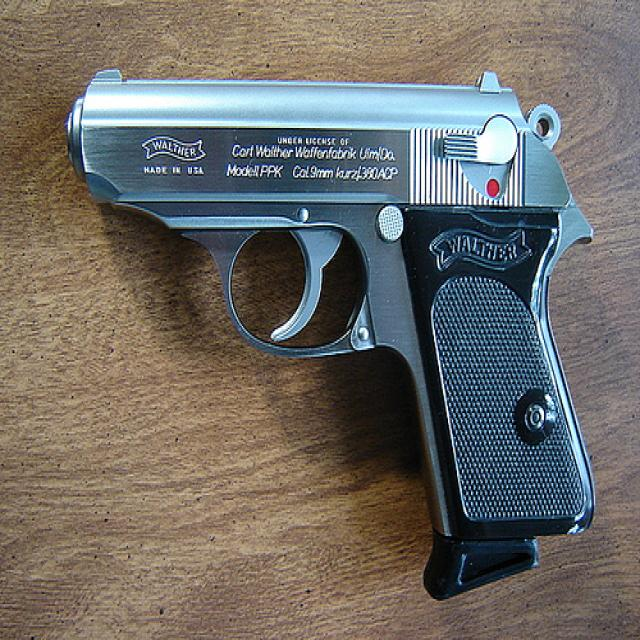gun: (64, 63, 596, 601)
